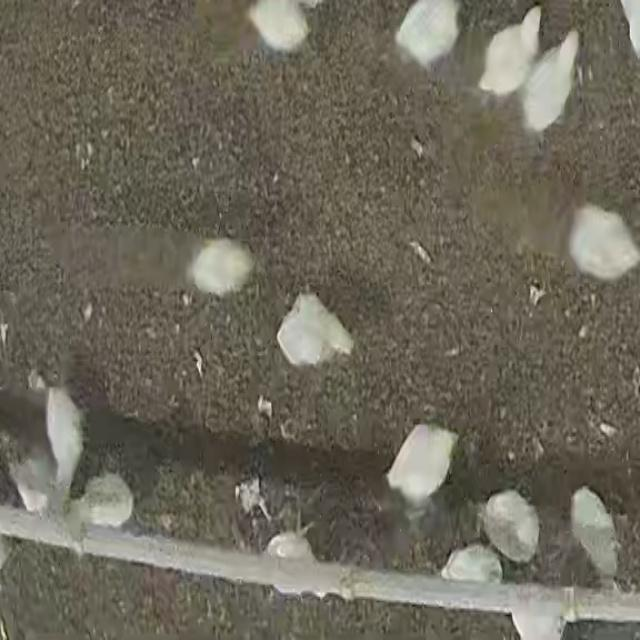chicken: (273, 288, 355, 371), (383, 422, 461, 509), (520, 29, 580, 137), (564, 203, 640, 282), (477, 11, 541, 95), (568, 484, 620, 580), (183, 236, 259, 298), (480, 489, 540, 565), (265, 530, 327, 602), (45, 388, 85, 498), (394, 0, 459, 66), (437, 544, 502, 609), (76, 470, 134, 528), (250, 0, 310, 52), (266, 500, 317, 560), (508, 586, 566, 638)
